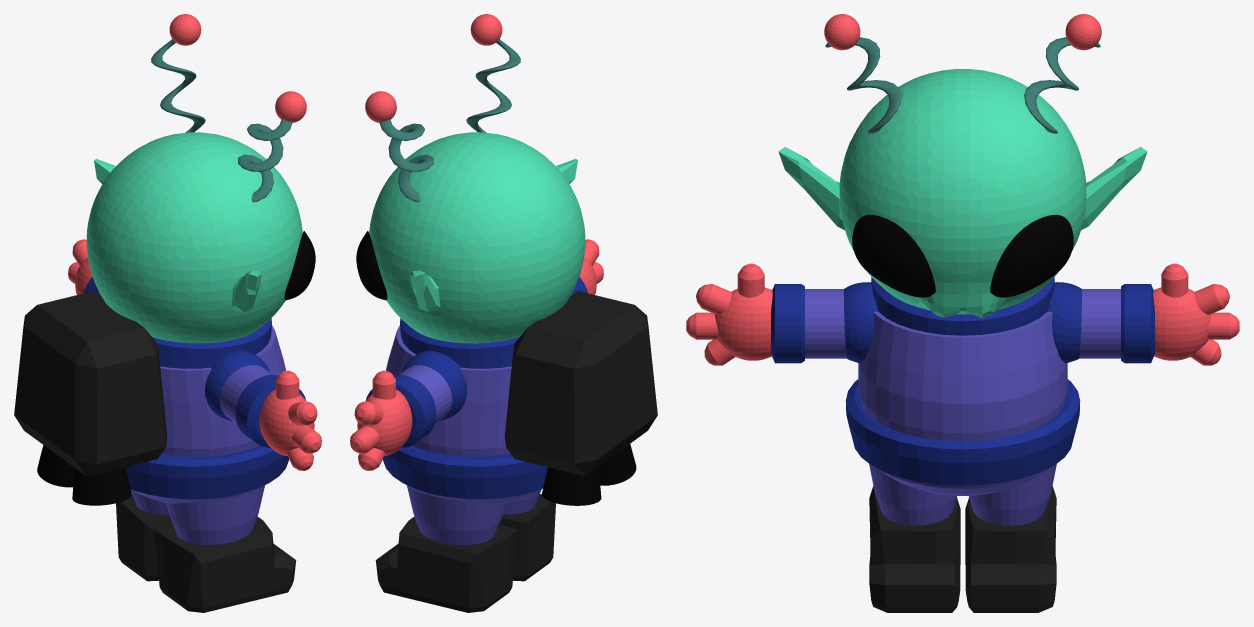
Rendered from smallAlienJetpack.fbx.
3 views of the same model, side by side, from view 1: azimuth 30°, elevation 25°; view 2: azimuth 150°, elevation 25°; view 3: azimuth 270°, elevation 25° (orthographic). The views are drawn at different scales.
Parts seen in each view (by area): view 1: Head, JetPack, Boots, Waistband, Body, Leggies, Antenna, Fingies, Neckband, HANDSS, Wristcuffs, AntenneBalls (+5 smaller); view 2: Head, JetPack, Boots, Waistband, Body, Leggies, Antenna, Fingies, Neckband, HANDSS, Wristcuffs, AntenneBalls (+5 smaller); view 3: Head, Body, Boots, Waistband, Eye, HANDSS, Fingies, Leggies, Arms, Wristcuffs, Shoulders, Neckband (+4 smaller).
Boxes of the visible parts, x1,y1,x2,y2 form: Head: [86, 132, 302, 343]; JetPack: [14, 291, 167, 505]; Boots: [116, 494, 296, 612]; Waistband: [125, 445, 289, 498]; Body: [160, 325, 285, 456]; Leggies: [131, 485, 264, 544]; Antenna: [151, 39, 292, 202]; Fingies: [68, 239, 321, 470]; Neckband: [153, 318, 271, 368]; HANDSS: [75, 257, 314, 455]; Wristcuffs: [84, 277, 305, 447]; AntenneBalls: [169, 14, 306, 122]; Head: [369, 132, 585, 343]; JetPack: [504, 291, 657, 505]; Boots: [375, 494, 555, 612]; Waistband: [382, 445, 547, 498]; Body: [386, 325, 511, 456]; Leggies: [407, 485, 541, 544]; Antenna: [379, 39, 520, 202]; Fingies: [350, 239, 603, 470]; Neckband: [400, 318, 518, 368]; HANDSS: [357, 257, 596, 455]; Wristcuffs: [366, 277, 587, 447]; AntenneBalls: [365, 14, 502, 122]; Head: [839, 69, 1086, 317]; Body: [858, 311, 1067, 441]; Boots: [869, 486, 1056, 612]; Waistband: [845, 379, 1080, 485]; Eye: [852, 214, 1073, 297]; HANDSS: [714, 287, 1211, 360]; Fingies: [686, 263, 1239, 365]; Leggies: [869, 464, 1056, 525]; Arms: [805, 289, 1120, 358]; Wristcuffs: [771, 284, 1154, 363]; Shoulders: [843, 282, 1082, 363]; Neckband: [871, 277, 1054, 335].
Size of the model in its own units: 168 by 337 by 288.
